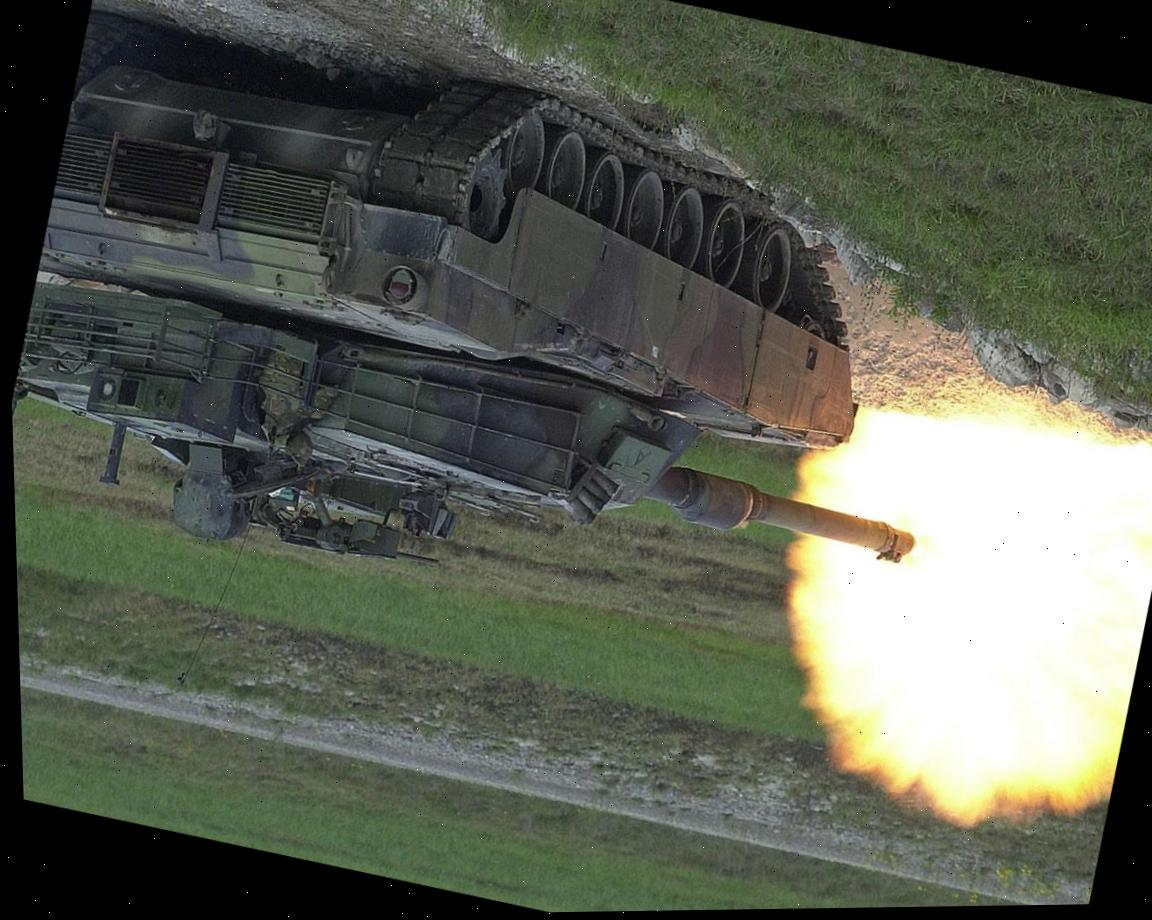tank: (0, 0, 1002, 696)
